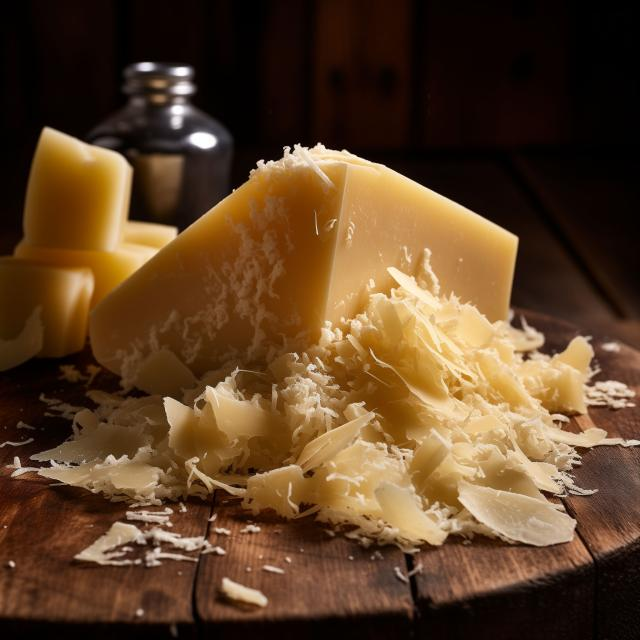Cheese: (2, 280, 640, 545), (81, 152, 546, 382), (0, 206, 176, 367), (15, 122, 132, 258), (0, 250, 114, 367)
